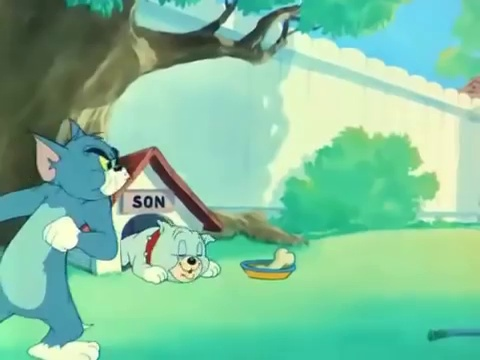tom: (28, 114, 132, 207)
